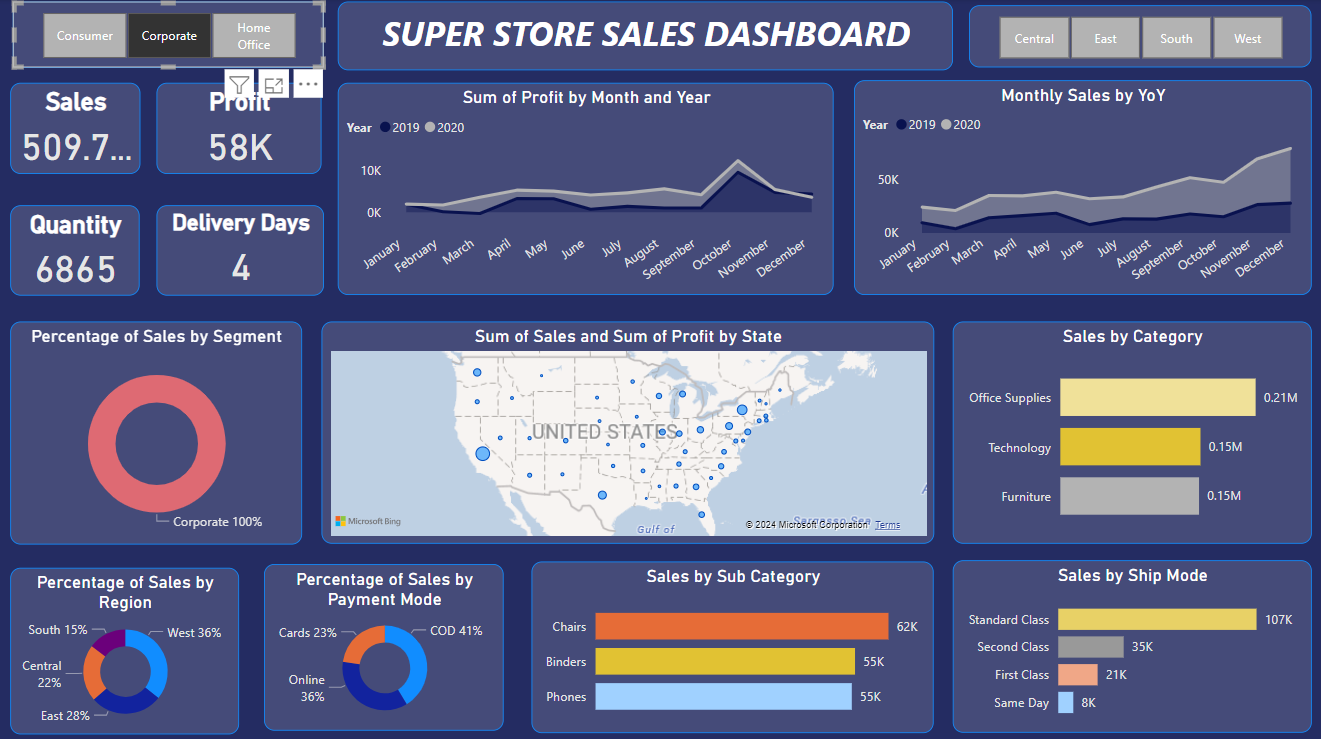

The page's visual inventory and layout, read from the dashboard file:
{"tool":"powerbi","page":{"name":"Page 1","canvas":[1280,720],"ordinal":0},"visuals":[{"type":"clusteredBarChart","title":"Sales by Category","fields":{"Category":["SuperStore_Sales_Dataset.Category"],"Y":["Sum(SuperStore_Sales_Dataset.Sales)"]},"box":[920.2,311.2,346.1,214.7],"z":0},{"type":"clusteredBarChart","title":"Sales by Sub Category","fields":{"Category":["SuperStore_Sales_Dataset.Sub-Category"],"Y":["Sum(SuperStore_Sales_Dataset.Sales)"]},"box":[513.8,542.7,388.3,165.2],"z":1000},{"type":"clusteredBarChart","title":"Sales by Ship Mode","fields":{"Category":["SuperStore_Sales_Dataset.Ship Mode"],"Y":["Sum(SuperStore_Sales_Dataset.Sales)"]},"box":[920,541.2,346.2,166.2],"z":2000},{"type":"stackedAreaChart","title":"Monthly Sales by YoY","fields":{"Y":["Sum(SuperStore_Sales_Dataset.Sales)"],"Category":["SuperStore_Sales_Dataset.Order Date.Variation.Date Hierarchy.Month","SuperStore_Sales_Dataset.Order Date.Variation.Date Hierarchy.Day"],"Series":["SuperStore_Sales_Dataset.Order Date.Variation.Date Hierarchy.Year"]},"box":[825,78.8,441.2,207.5],"z":3000},{"type":"stackedAreaChart","fields":{"Category":["SuperStore_Sales_Dataset.Order Date.Variation.Date Hierarchy.Month","SuperStore_Sales_Dataset.Order Date.Variation.Date Hierarchy.Day"],"Series":["SuperStore_Sales_Dataset.Order Date.Variation.Date Hierarchy.Year"],"Y":["Sum(SuperStore_Sales_Dataset.Profit)"]},"box":[326.2,81.2,478.8,205],"z":4000},{"type":"map","fields":{"Category":["SuperStore_Sales_Dataset.State"],"Size":["Sum(SuperStore_Sales_Dataset.Sales)"]},"box":[311.2,311.2,591,214.7],"z":5000},{"type":"donutChart","title":"Percentage of Sales by Segment","fields":{"Category":["SuperStore_Sales_Dataset.Segment"],"Y":["Sum(SuperStore_Sales_Dataset.Sales)"]},"box":[11.2,311.2,281.2,215],"z":6000},{"type":"donutChart","title":"Percentage of Sales by Payment Mode","fields":{"Category":["SuperStore_Sales_Dataset.Payment Mode"],"Y":["Sum(SuperStore_Sales_Dataset.Sales)"]},"box":[255.7,545.1,231.6,160.4],"z":7000},{"type":"slicer","fields":{"Values":["SuperStore_Sales_Dataset.Region"]},"box":[936.2,6.2,330,60],"z":8000},{"type":"textbox","box":[326.2,2.5,593.8,66.2],"z":9000},{"type":"card","title":"Sales","fields":{"Values":["Sum(SuperStore_Sales_Dataset.Sales)"]},"box":[11.2,81.2,125,87.5],"z":10000},{"type":"card","title":"Quantity","fields":{"Values":["Sum(SuperStore_Sales_Dataset.Quantity)"]},"box":[11.2,198.8,125,87.5],"z":11000},{"type":"card","title":"Profit","fields":{"Values":["Sum(SuperStore_Sales_Dataset.Profit)"]},"box":[161.2,81.2,152.5,87.5],"z":12000},{"type":"card","title":"Delivery Days","fields":{"Values":["Avg(SuperStore_Sales_Dataset.AvgDelievery)"]},"box":[162.5,198.8,151.2,87.5],"z":13000},{"type":"donutChart","title":"Percentage of Sales by Region","fields":{"Category":["SuperStore_Sales_Dataset.Region"],"Y":["Sum(SuperStore_Sales_Dataset.Sales)"]},"box":[10.9,548.7,220.7,160.4],"z":14000},{"type":"slicer","fields":{"Values":["SuperStore_Sales_Dataset.Segment"]},"box":[11.2,2.5,300,63.8],"z":15000}]}

Visuals, with their boxes in screenshot pixels (x1, y1, x2, y2), scaled from the page's 1280x720 canvas onto the 1321x739 screenshot:
"Sales by Category" clusteredBarChart: [950,319,1307,540]
"Sales by Sub Category" clusteredBarChart: [530,557,931,727]
"Sales by Ship Mode" clusteredBarChart: [949,555,1307,726]
"Monthly Sales by YoY" stackedAreaChart: [851,81,1307,294]
stackedAreaChart - SuperStore_Sales_Dataset.Order Date.Variation.Date Hierarchy.Month x SuperStore_Sales_Dataset.Order Date.Variation.Date Hierarchy.Day: [337,83,831,294]
map - SuperStore_Sales_Dataset.State x Sum(SuperStore_Sales_Dataset.Sales): [321,319,931,540]
"Percentage of Sales by Segment" donutChart: [12,319,302,540]
"Percentage of Sales by Payment Mode" donutChart: [264,559,503,724]
slicer - SuperStore_Sales_Dataset.Region: [966,6,1307,68]
textbox: [337,3,949,71]
"Sales" card: [12,83,141,173]
"Quantity" card: [12,204,141,294]
"Profit" card: [166,83,324,173]
"Delivery Days" card: [168,204,324,294]
"Percentage of Sales by Region" donutChart: [11,563,239,728]
slicer - SuperStore_Sales_Dataset.Segment: [12,3,321,68]
